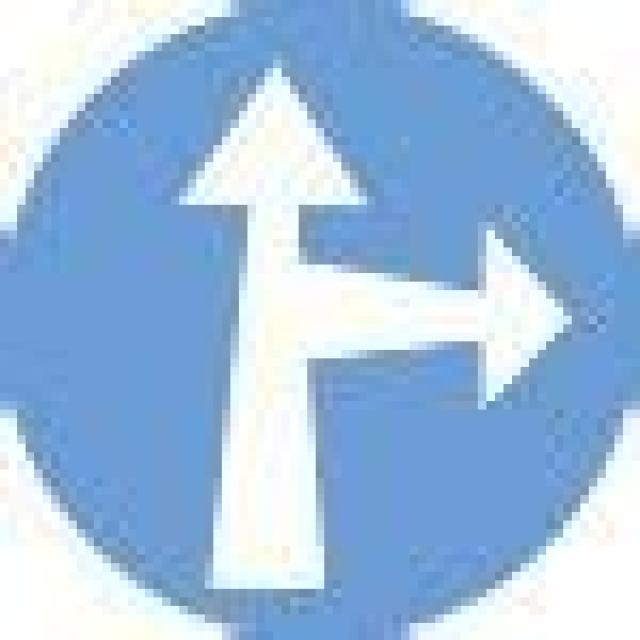compulsory_ahead_or_left: (0, 0, 631, 631)
